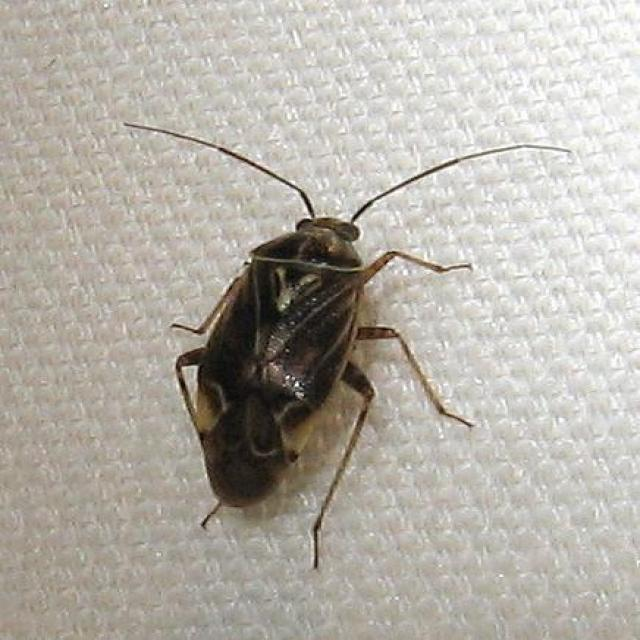Miridae-Adult-: (117, 100, 517, 573)
